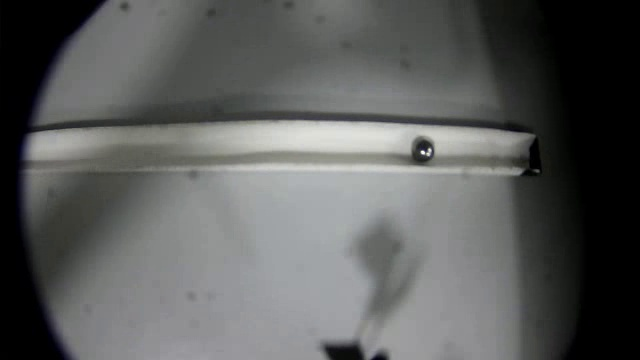gangzhu: (410, 137, 437, 165)
